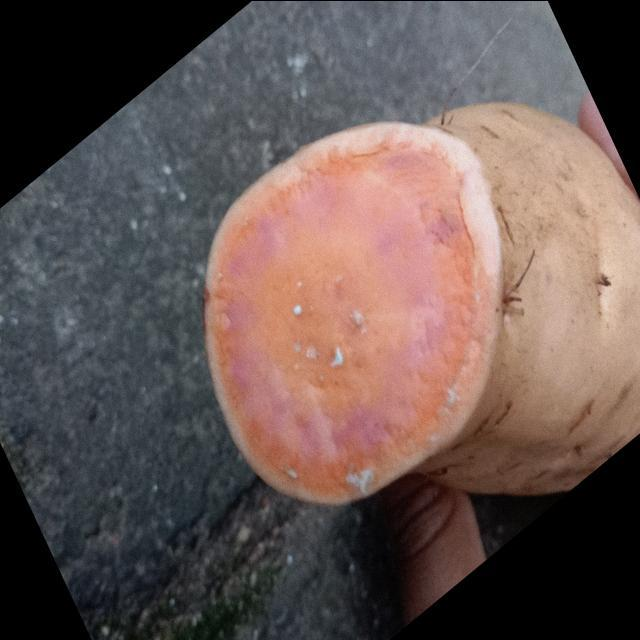Healthy Sweet Potato: (204, 122, 501, 503)
